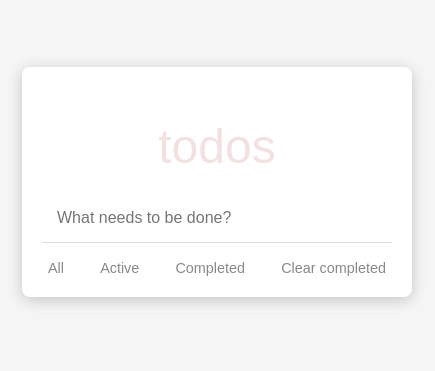
ToDo App › should filter active and completed todos
The image size is (435, 371).
Добавляем две задачи
In the field with placeholder "What needs to be done?": (217, 219) [42,194,392,243], type "Active task"
Submit the form from the field with placeholder "What needs to be done?", box [42,194,392,243]
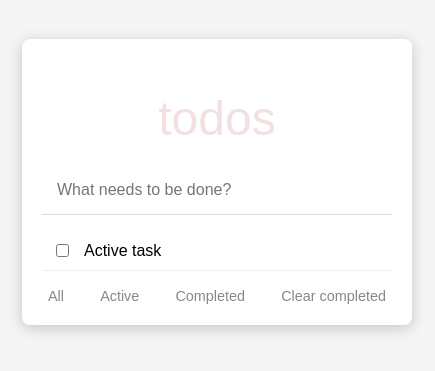
In the field with placeholder "What needs to be done?": (217, 191) [42,166,392,215], type "Completed task"
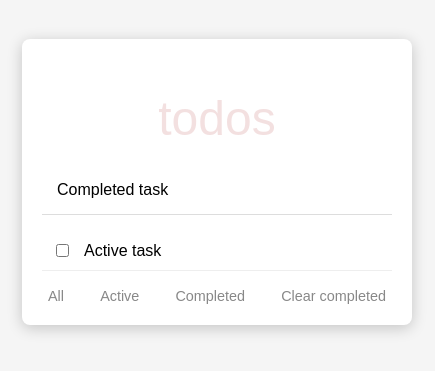
Submit the form from the field with placeholder "What needs to be done?", box [42,166,392,215]
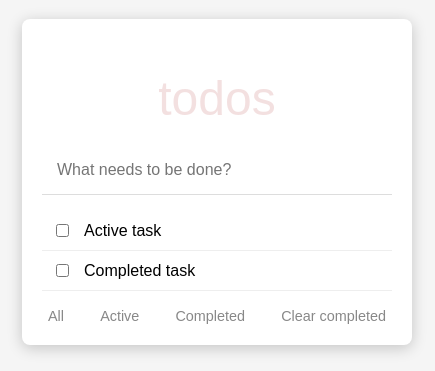
Отмечаем вторую задачу как выполненную
Click the checkbox labelled "Completed task": (62, 271) [56,264,69,277]
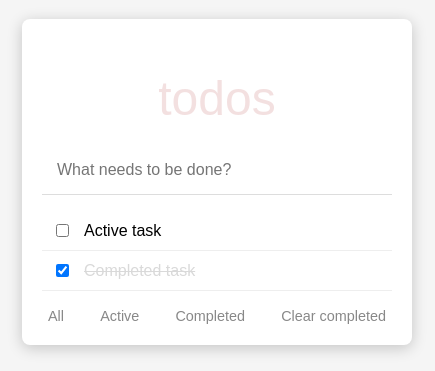
Проверяем фильтр активных задач
Click the button "Active": (120, 316) [94,307,145,325]
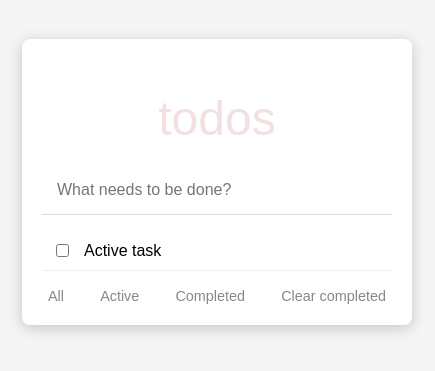
Expected: the text "Active task" is shown, [84,242,161,260]
Expected: the text "Completed task" is gone
Проверяем фильтр выполненных задач
Click the button "Completed": (210, 296) [170,287,251,305]
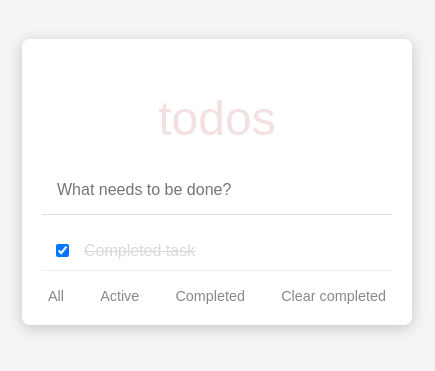
Expected: the text "Completed task" is shown, [84,242,195,260]
Expected: the text "Active task" is gone
